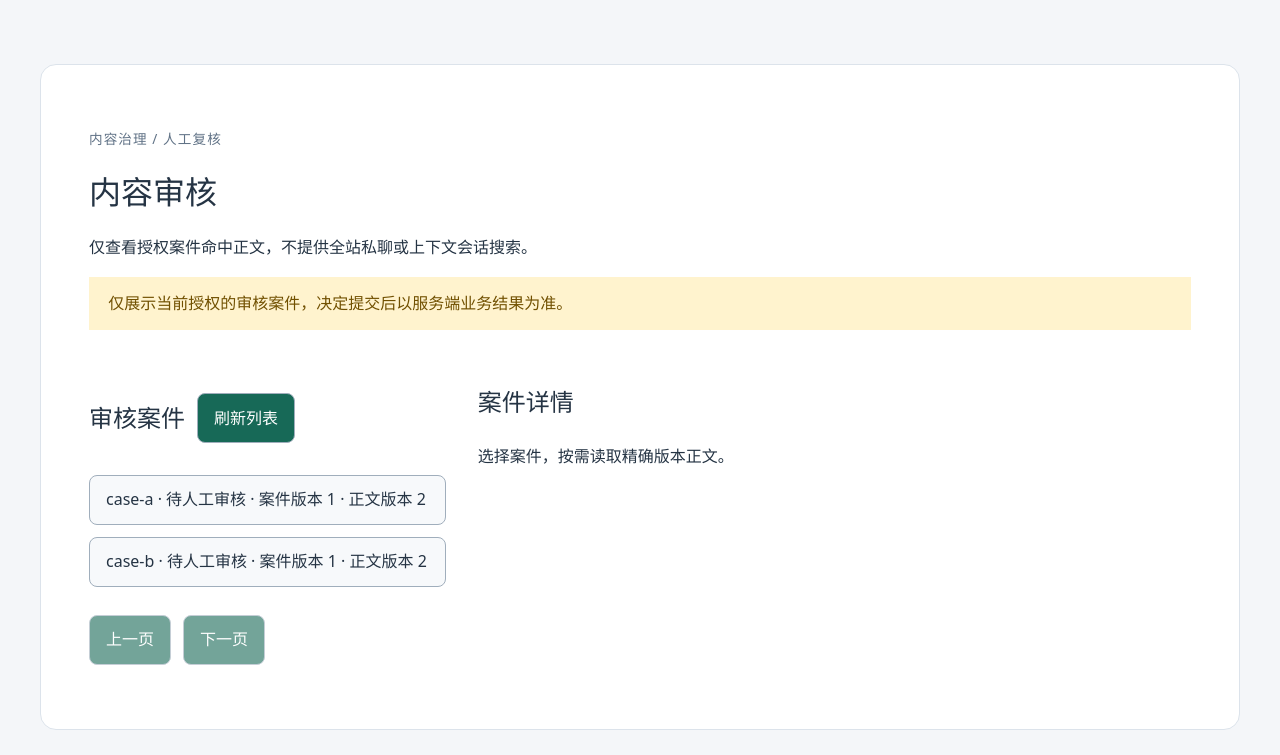
Scenario: T017 真实内容审核页面交互 › 内容通过与业务取消分开展示，不能把通过当作公开
Click the button "case-a · 待人工审核 · 案件版本 1 · 正文版本 2". click: (267, 500)
box: [89,475,446,525]
(page scrolled)
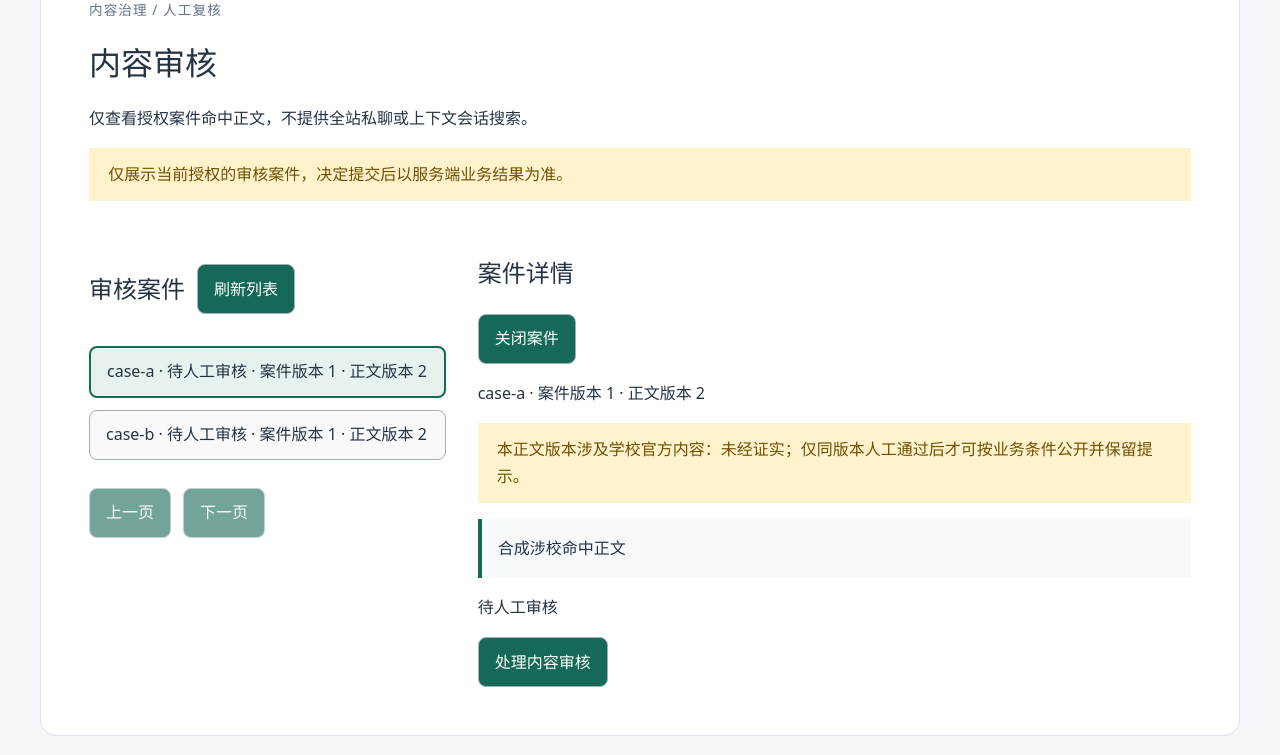
Click the button "处理内容审核". click: (543, 662)
box: [478,637,608,687]
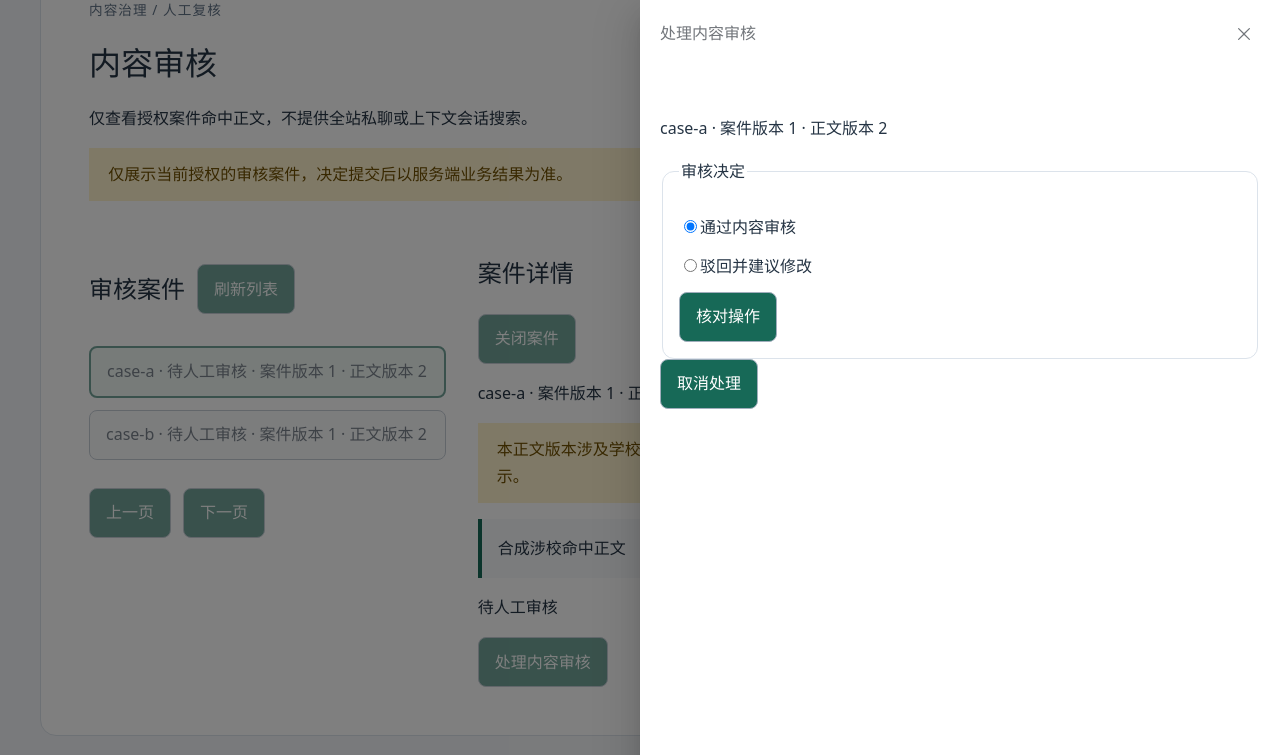
Submit the form, box [660,158,1260,359]
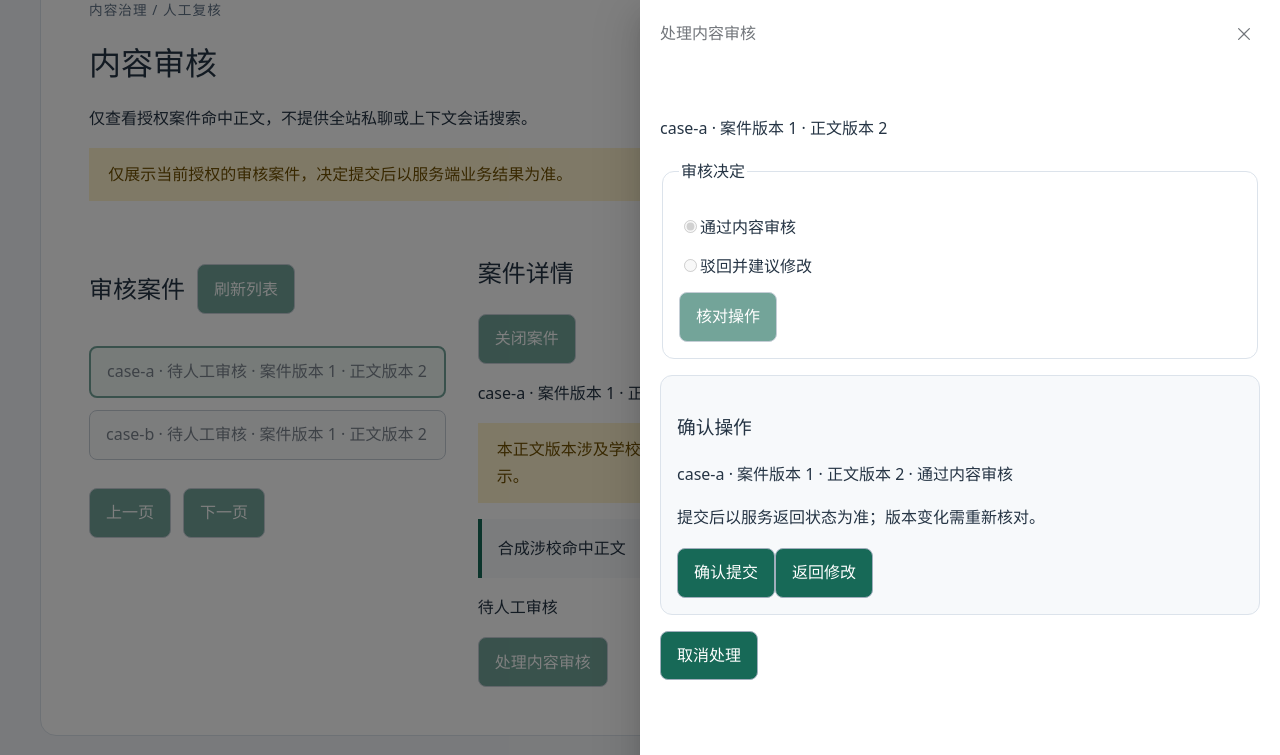
Click the button "确认提交". click: (726, 572)
box: [677,548,775,598]
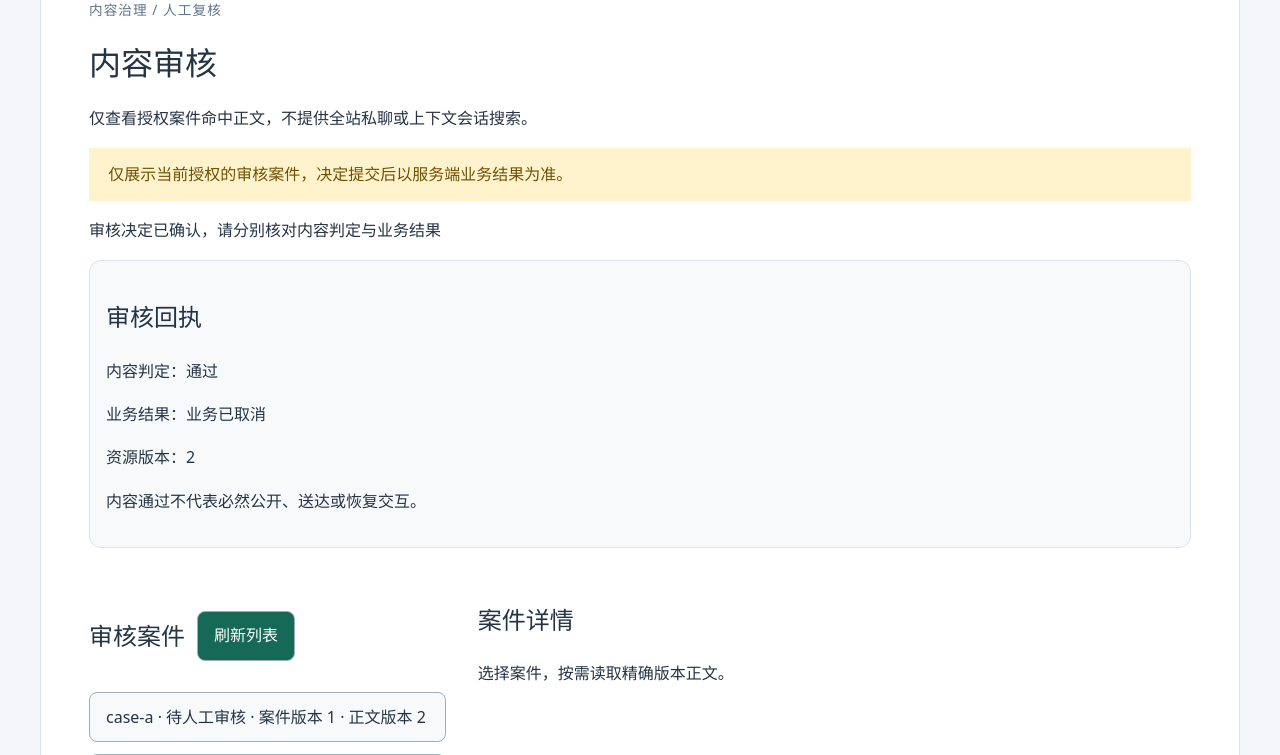
Now the text "内容判定：通过" is shown, box [106,360,218,382]
Now the text "业务结果：业务已取消" is shown, box [106,403,266,425]
